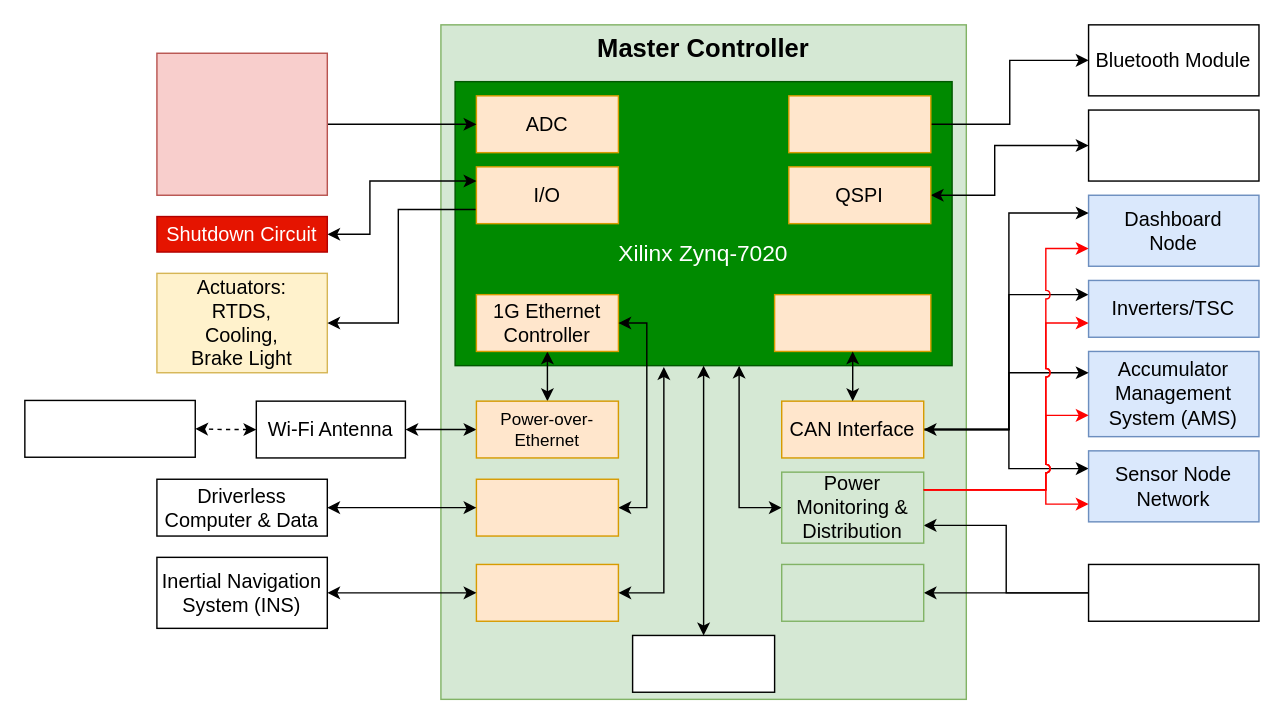
The diagram is 1285 pixels wide and 724 high, and some of its shapes have lost their labels. The shapes that lost their labels are listed below. From the top down, each one's centre as x and y in pixels, then its label:
the point at 241,123: Sensors: Torque pedal, Brake pedal, Steering angle, Auxiliary sensors
the point at 859,123: UART
the point at 1173,145: Data Storage
the point at 852,322: CAN Controllers
the point at 109,428: Live-view
the point at 546,507: Driverless Interface
the point at 546,592: INS Interface
the point at 852,592: DC/DC Converter
the point at 1173,592: Low Voltage System (LVS)
the point at 703,663: EEPROM
